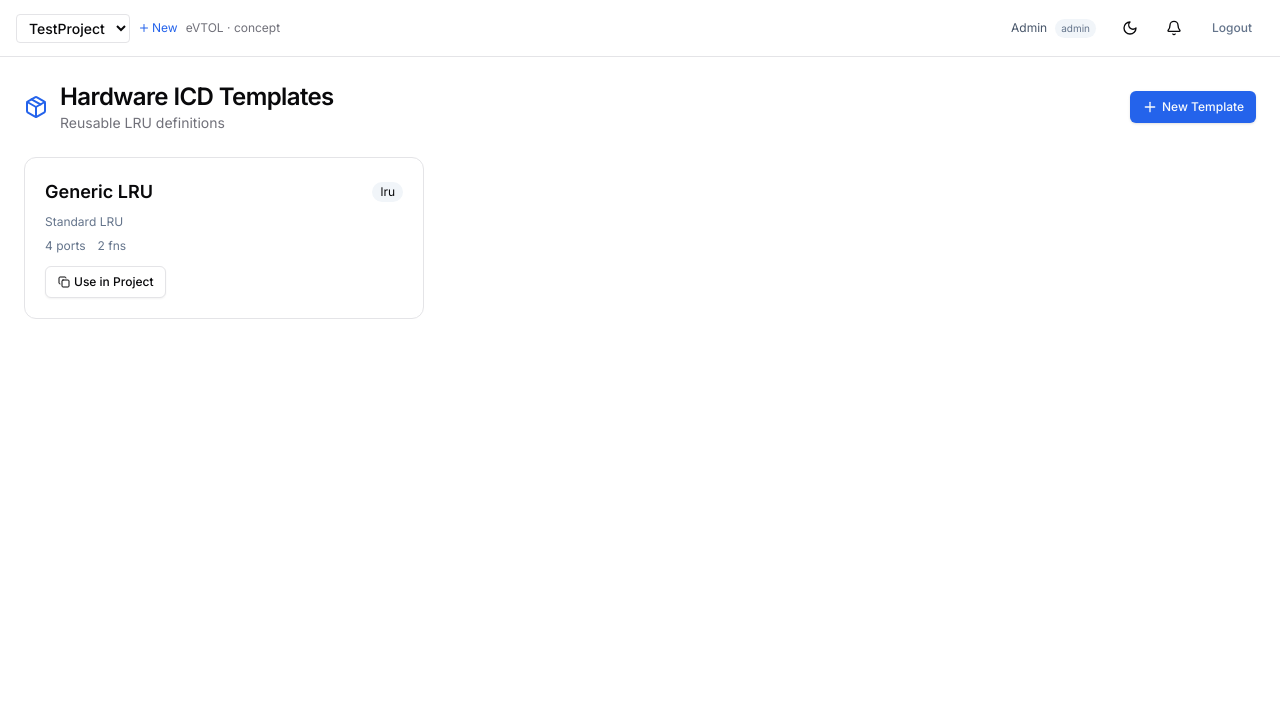
HW Templates Page › + Add function adds a function row
Step 1. Click the button "New Template" → (1193, 107), box left=1130, top=91, right=1256, bottom=123
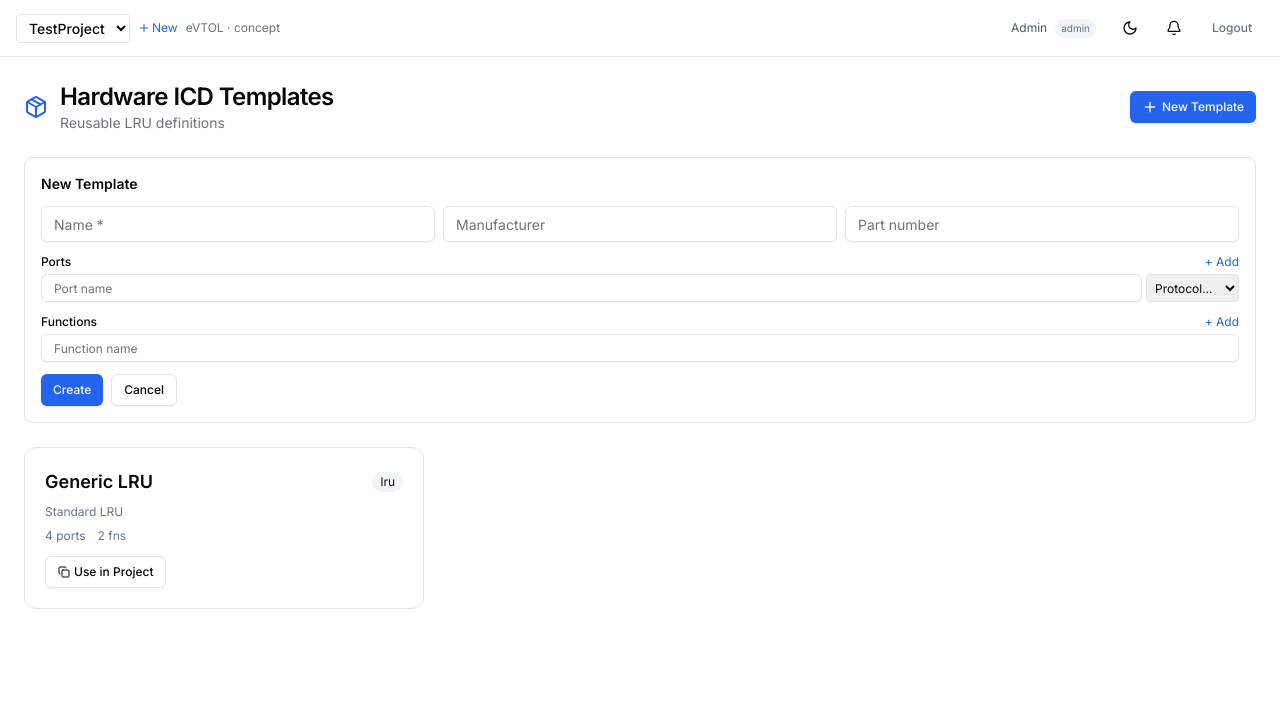
Step 2. Click the button "+ Add" in the row of "Functions" → (1222, 322), box left=1205, top=314, right=1239, bottom=330
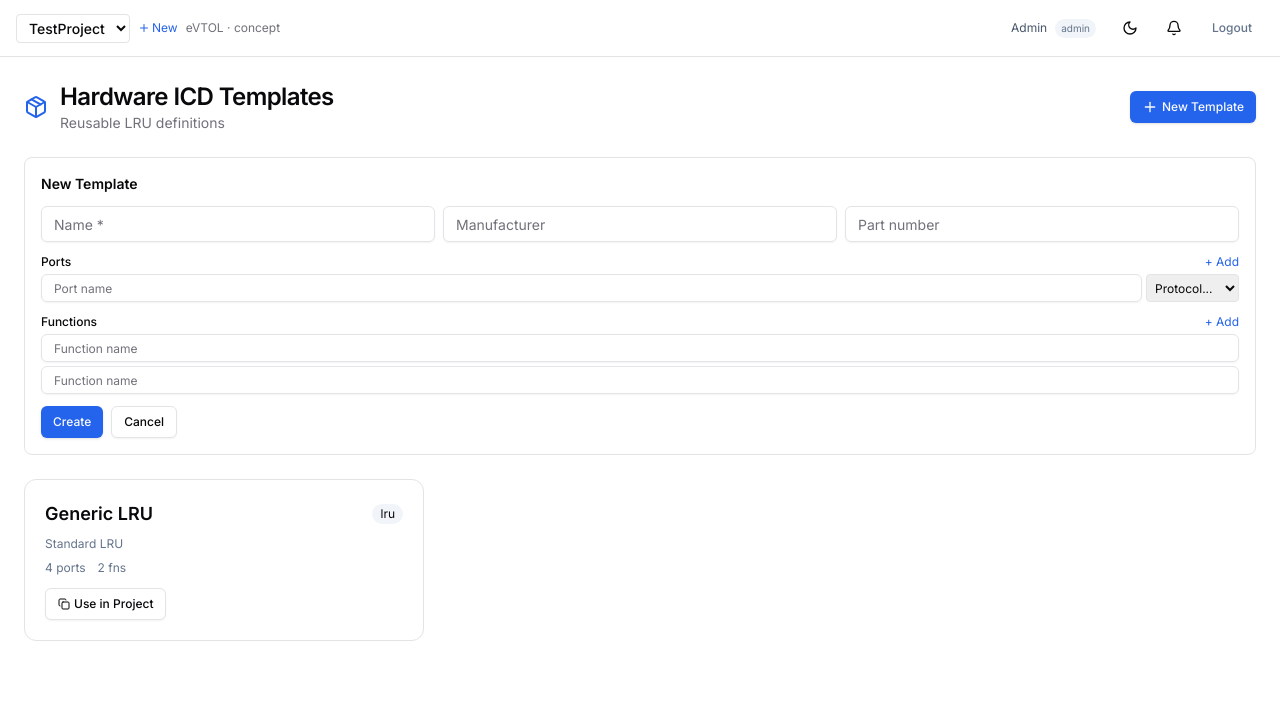
Expected: the number of fields with placeholder "Function name" is 2, left=41, top=334, right=1239, bottom=362; left=41, top=366, right=1239, bottom=394
